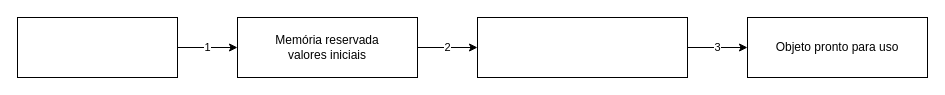
The diagram is 945 pixels wide and 95 high, and some of its shapes have lost their labels. The centre of each missing label's shape, as x and y in pixels:
"Construtor executado inicializa + valida" goes at (582,47).
"new Classe(...)" goes at (97,47).
